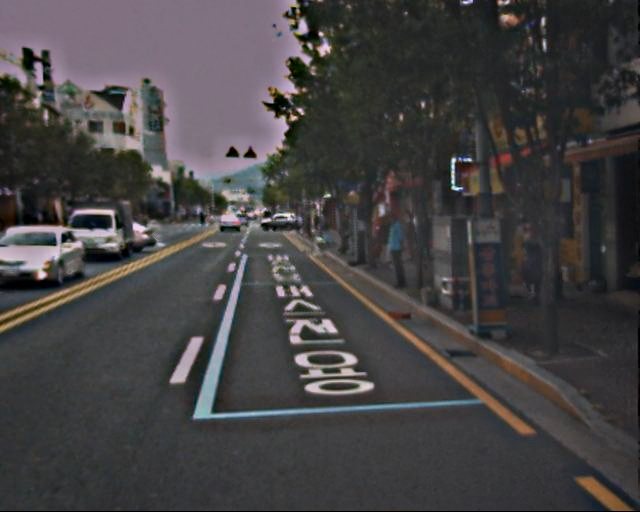person: (515, 223, 549, 307), (380, 211, 413, 291), (414, 210, 436, 264)
